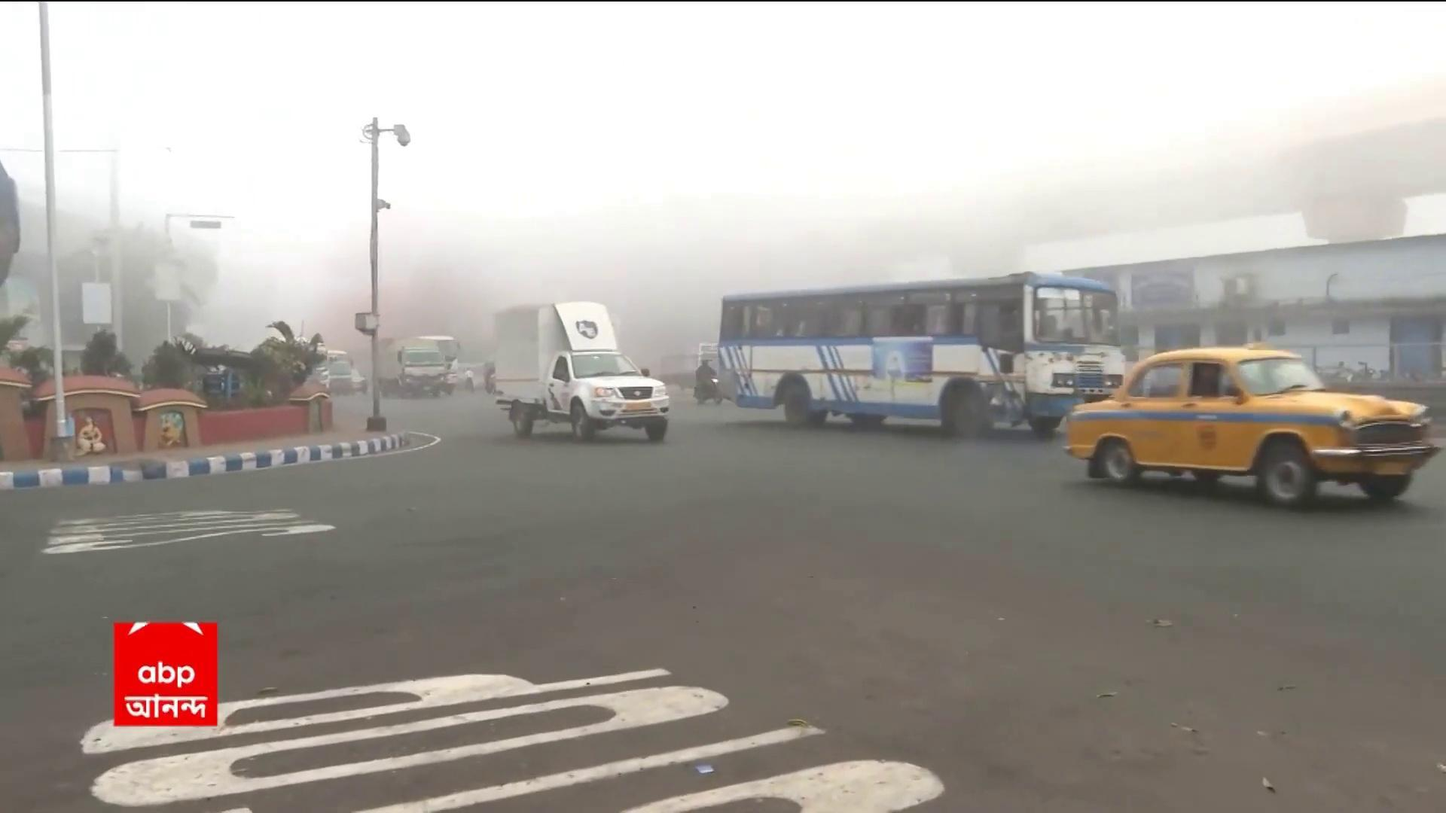Bike: (691, 357, 718, 408)
Bus: (714, 269, 1063, 434)
Car: (1062, 346, 1441, 511)
Truck: (492, 300, 671, 443), (379, 336, 446, 398)
